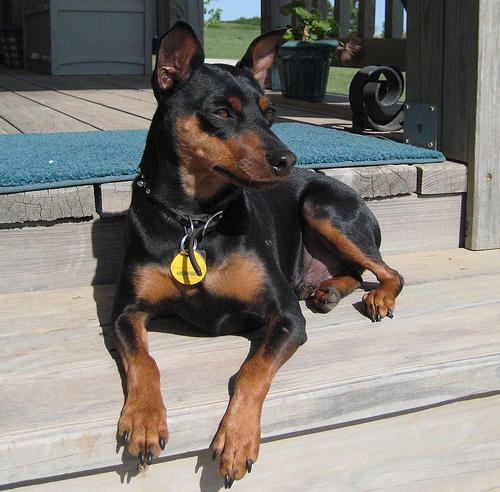dog: (150, 19, 295, 190)
